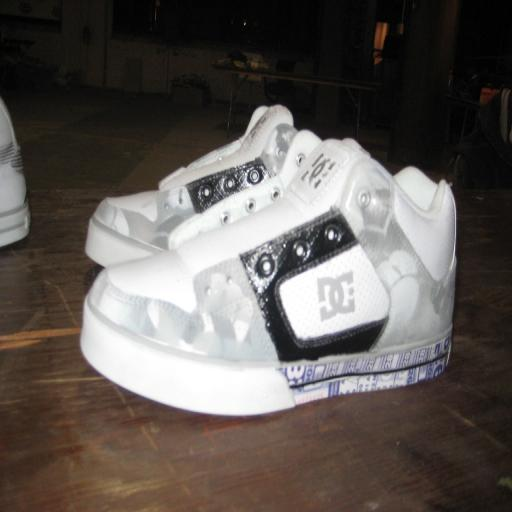shoe: (80, 139, 456, 415), (85, 105, 297, 266), (0, 98, 30, 246)
